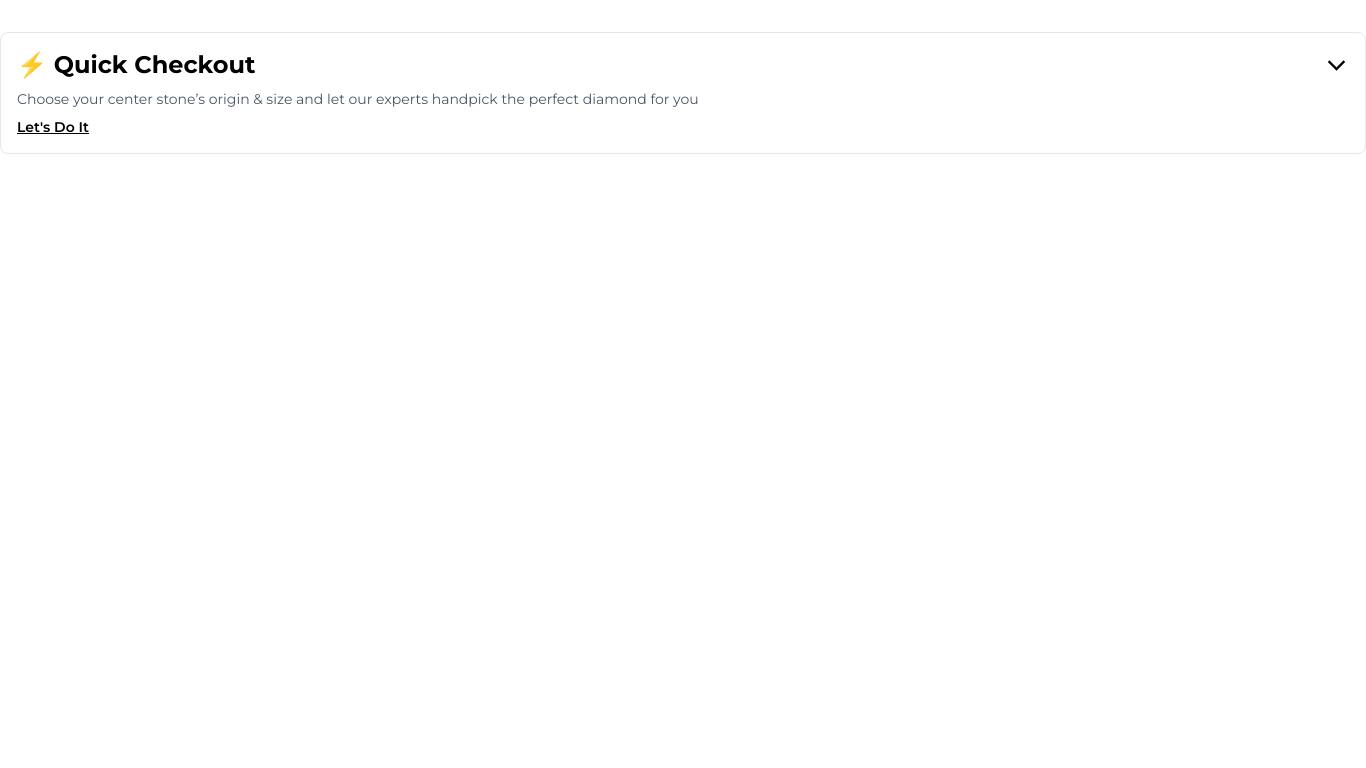
Test: QuickCheckout Component › shows total price and shipping info when open
Click the heading "⚡ Quick Checkout": click(136, 65) [17,49,255,81]
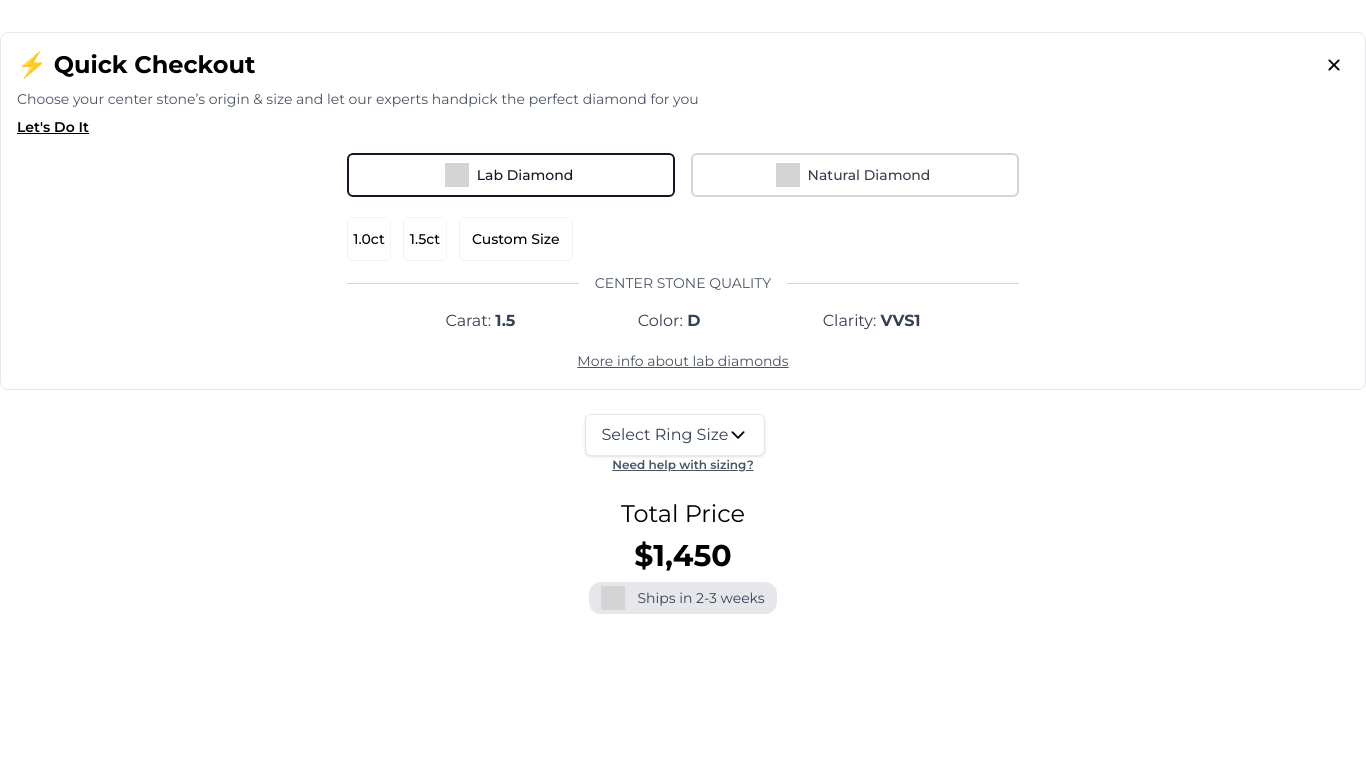
Result: the heading "Total Price" is shown at [621,499,745,528]
Result: the text "$1,450" is shown at [634,537,732,574]
Result: the text "Ships in 2-3 weeks" is shown at [589,582,777,614]
